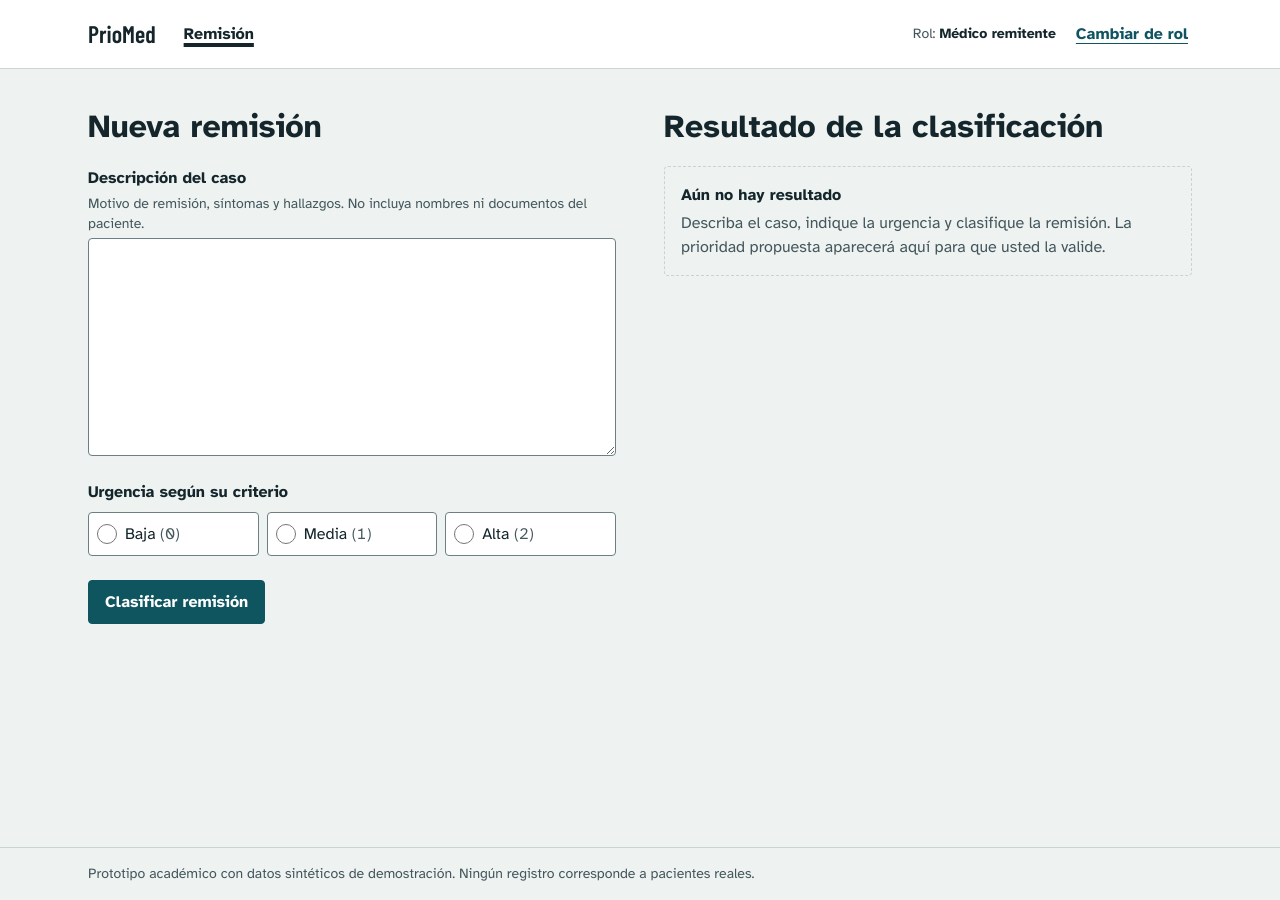
Test case: Acceso por rol › "Cambiar de rol" cierra la sesión y vuelve al ingreso
Click the button "Cambiar de rol". click: [1132, 34]
box: [1072,12,1192,56]
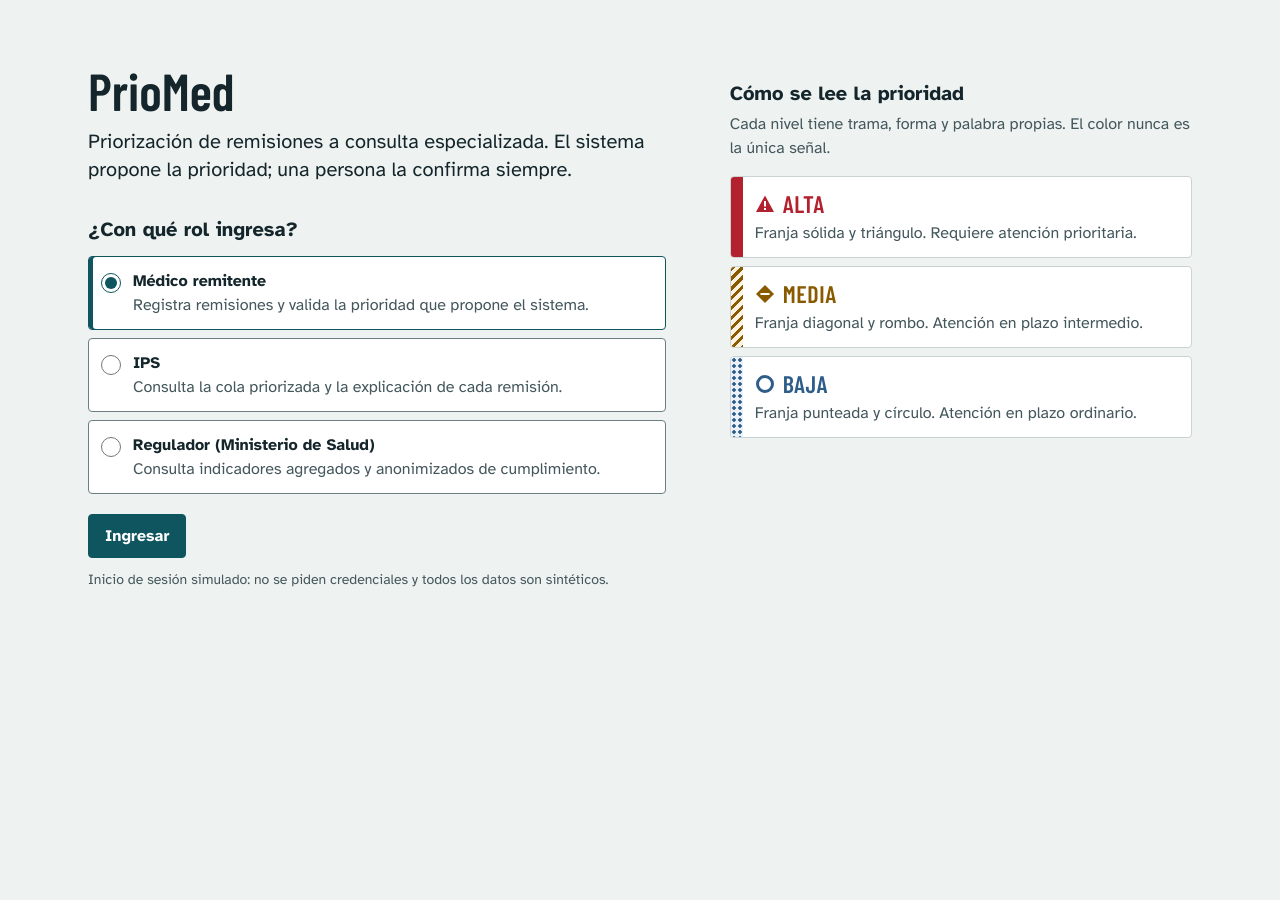
Check: the button "Ingresar" is shown, box [88,514,186,558]
